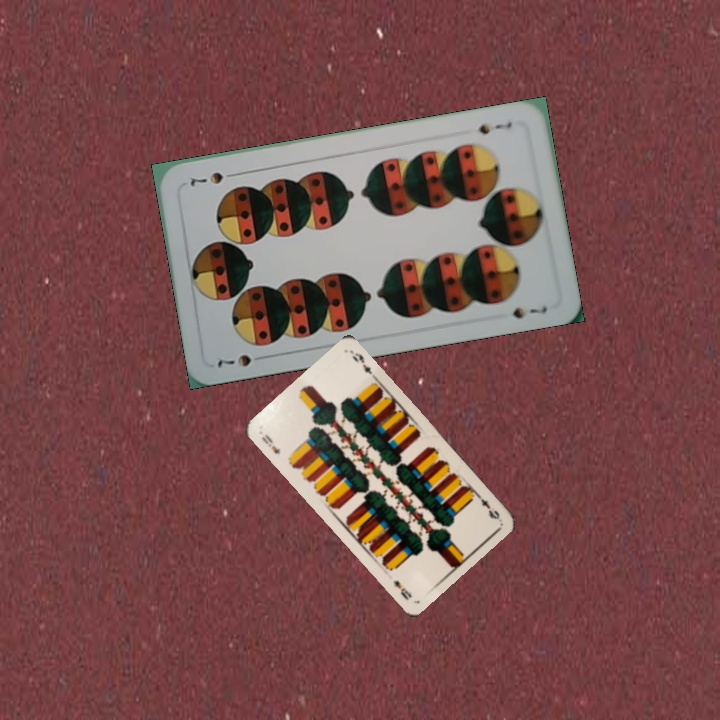E9: (468, 489, 502, 522), (257, 430, 283, 457)
S7: (213, 350, 270, 369), (473, 117, 515, 137)
